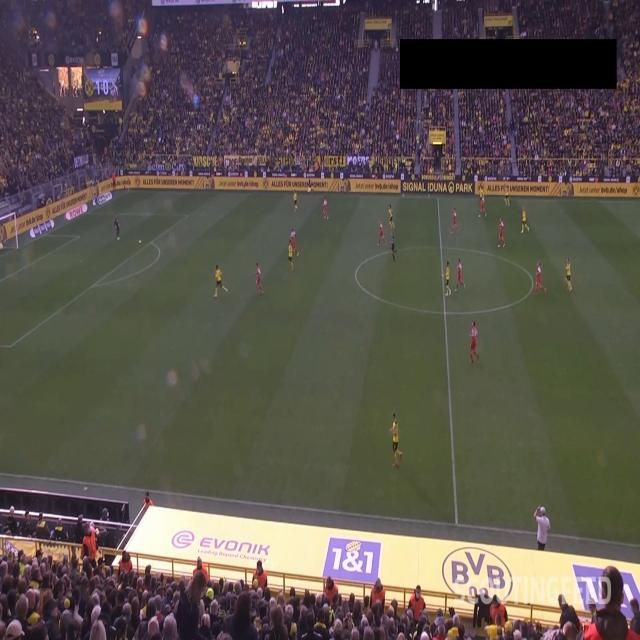ball: (138, 238, 142, 244)
